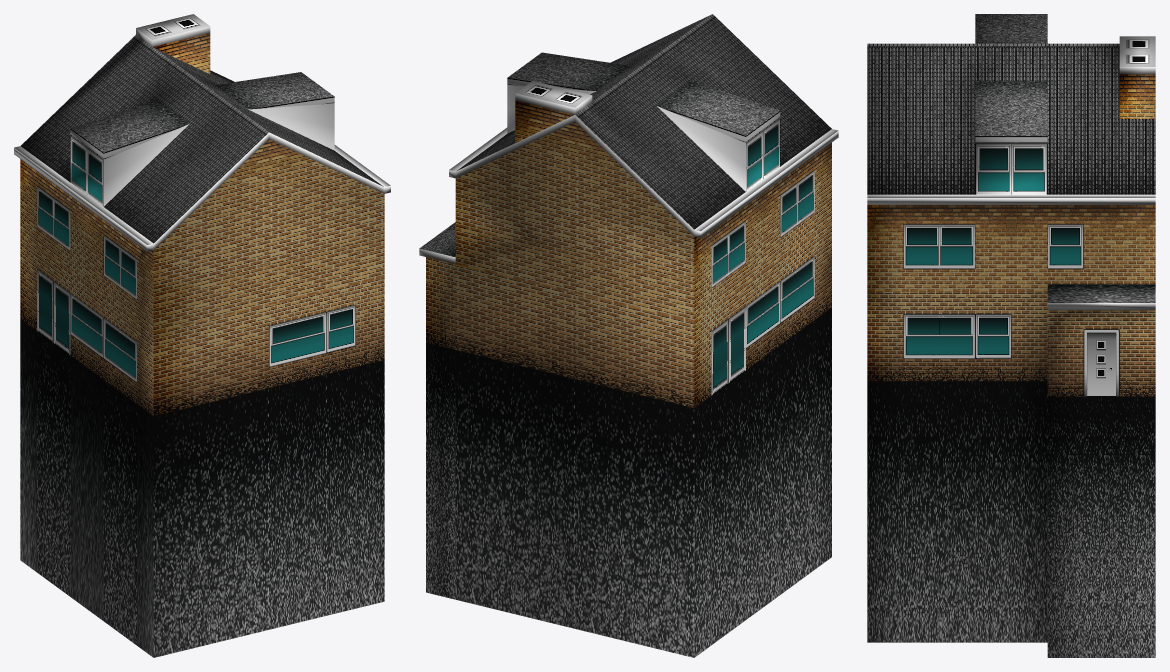
Rendered from doorzon_mod2_1b.fbx.
3 renders of one model, left to right at view 1: azimuth 30°, elevation 25°; view 2: azimuth 150°, elevation 25°; view 3: azimuth 270°, elevation 25°, orthographic. The views are drawn at different scales.
Parts seen in each view (by area): view 1: doorzon_mod2_1b; view 2: doorzon_mod2_1b; view 3: doorzon_mod2_1b.
Part boxes in pixels (x1,y1,x2,y2): doorzon_mod2_1b: (14,14,390,657); doorzon_mod2_1b: (419,14,838,657); doorzon_mod2_1b: (867,14,1155,657).
Size of the model in its own units: 1062 by 1879 by 900.
